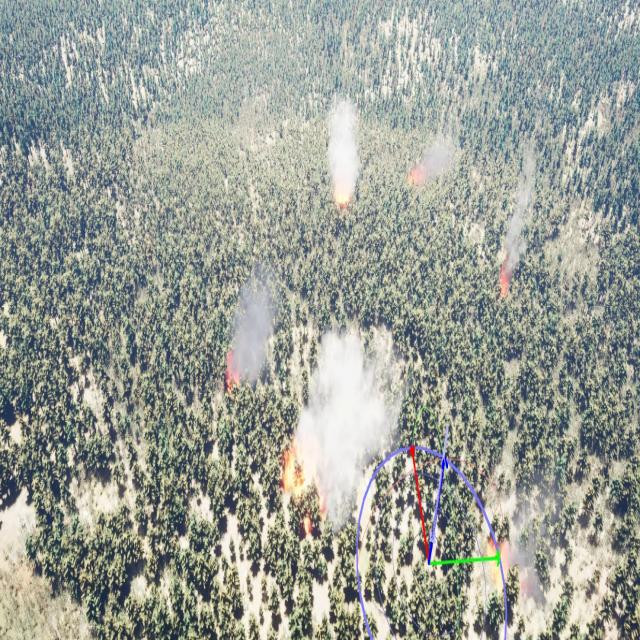fire: (279, 431, 329, 522), (485, 538, 524, 599), (220, 349, 244, 404), (497, 264, 513, 296), (335, 186, 350, 214), (408, 170, 431, 187)
smoke: (299, 320, 403, 529), (482, 481, 564, 610), (230, 263, 278, 387), (503, 138, 540, 274), (330, 90, 358, 188), (424, 138, 456, 198)
